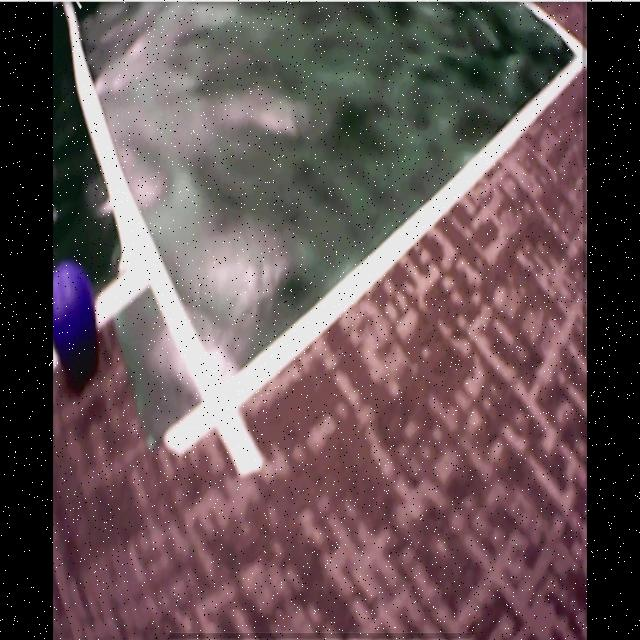ball: (55, 265, 98, 353)
